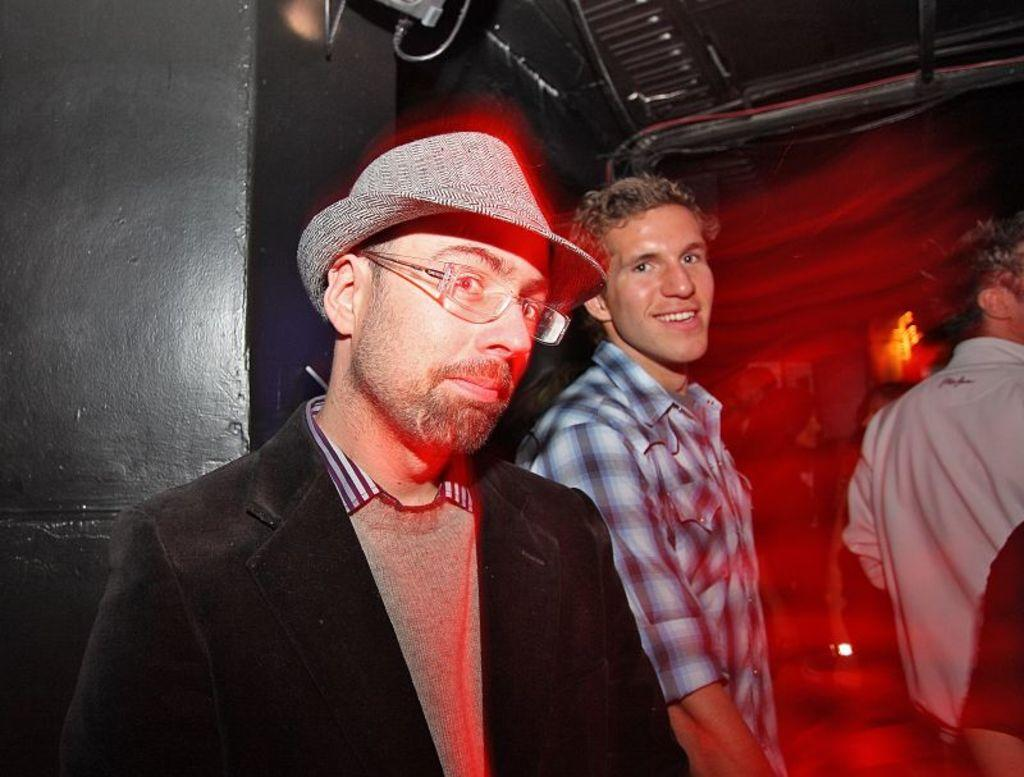Hat: (301, 127, 613, 322)
